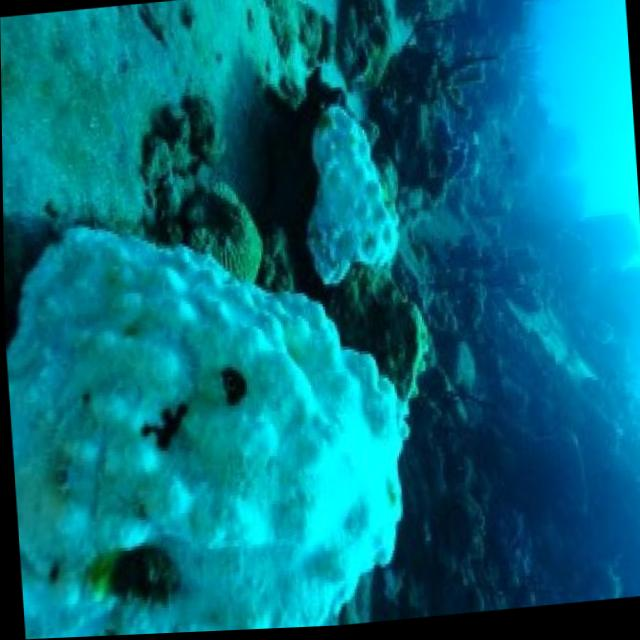Bleached Coral: (2, 198, 438, 640), (262, 77, 456, 332)
